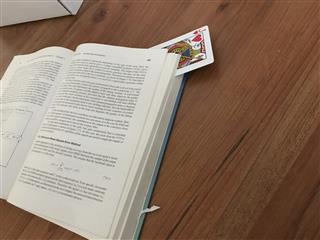JackOfHearts: (149, 24, 214, 75)
